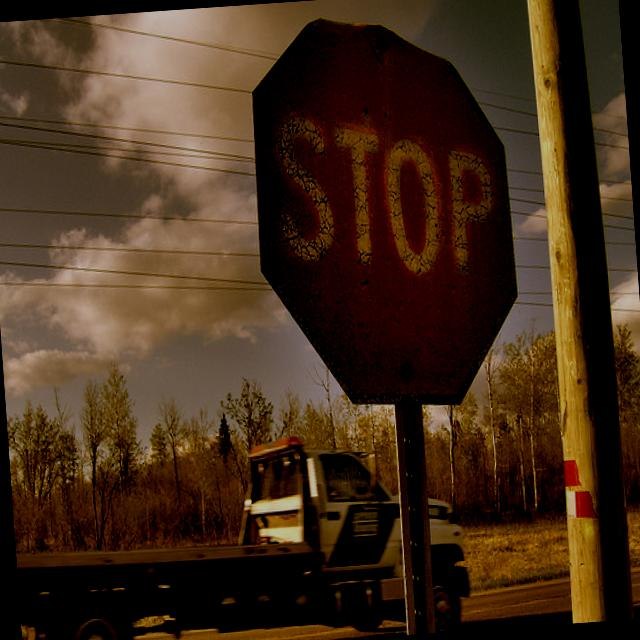Vehicle: (8, 415, 476, 640)
